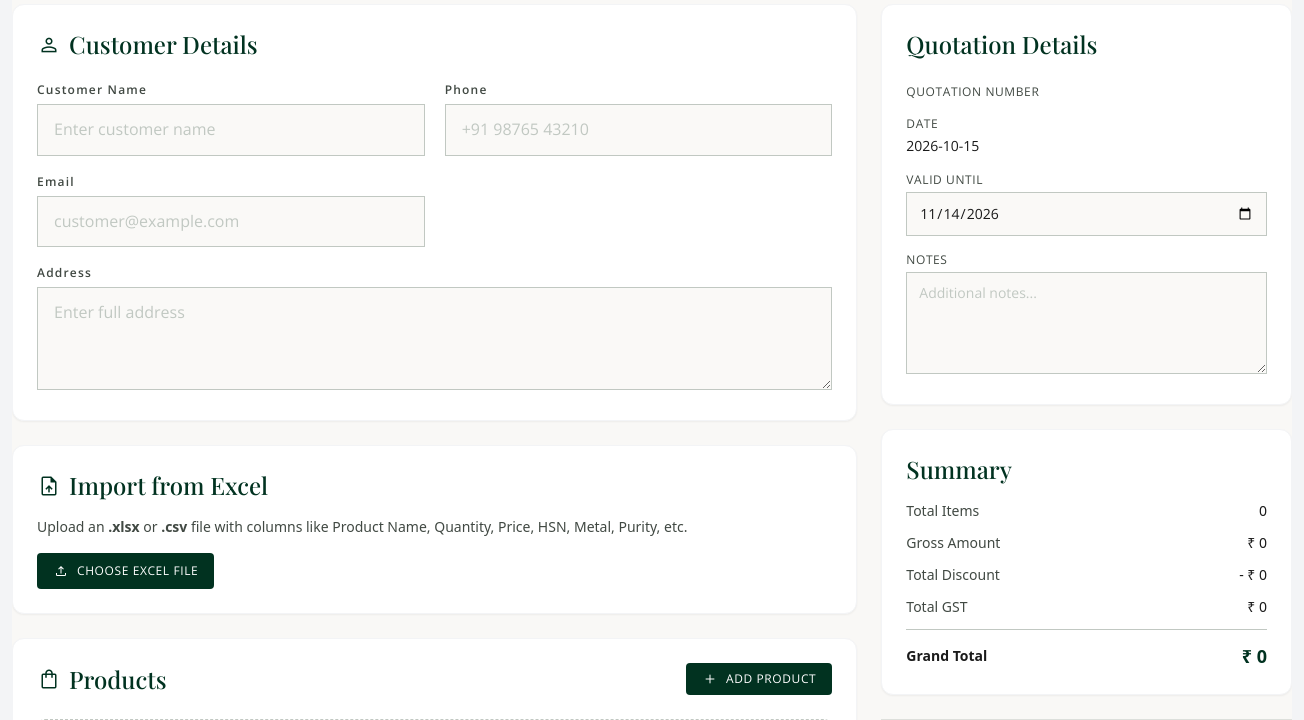
it: Admin Create Quotation › SKU Lookup › still auto-fills product details for SKUs found in locally loaded products
Click the button "Add Product". click: coordinates (759, 679)
box: [686,663,832,695]
(page scrolled)
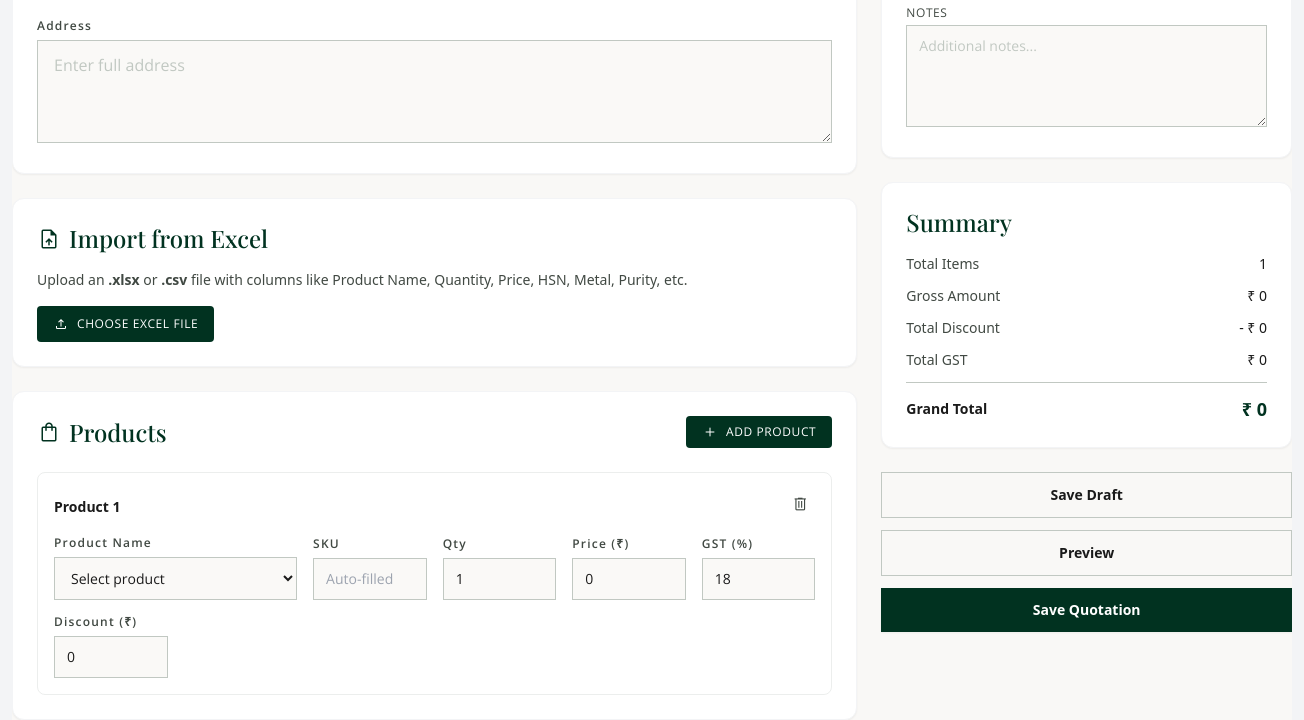
Check: the dropdown is shown, box [54,557,297,600]
Type "SKU001" into the field with placeholder "Auto-filled". click: coordinates (370, 579)
box: [313,558,427,600]
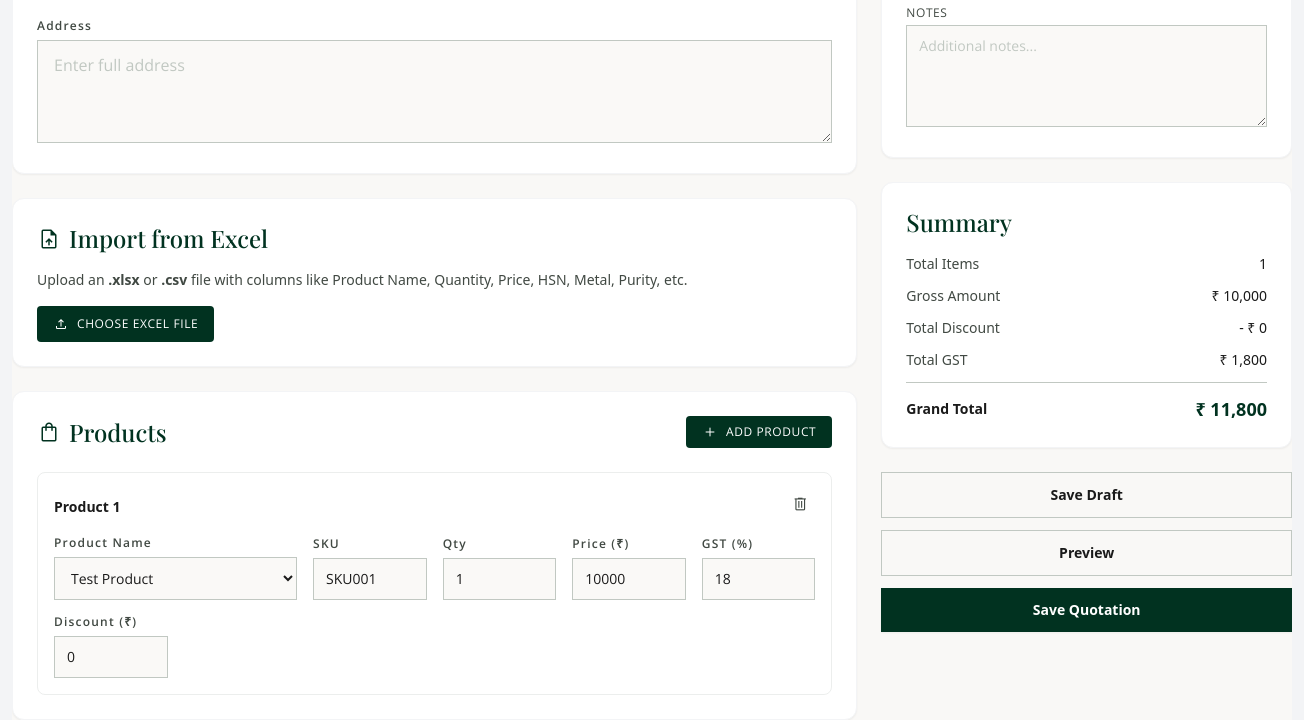
Check: the number field with placeholder "Auto-filled" below "Price (₹)" holds "10000", box [572,558,686,600]
